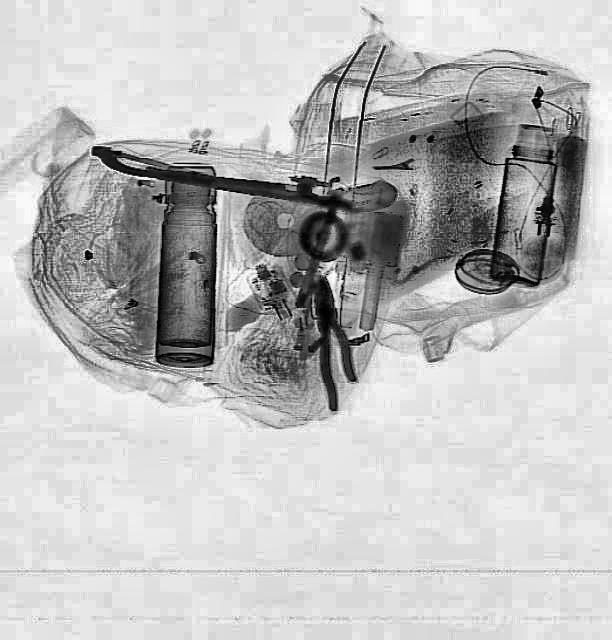Pliers: (300, 276, 362, 414)
